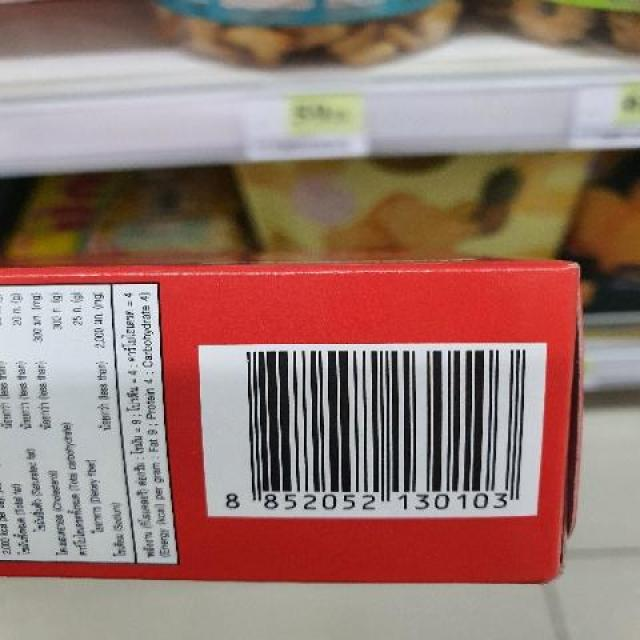Barcode: (208, 346, 537, 517)
